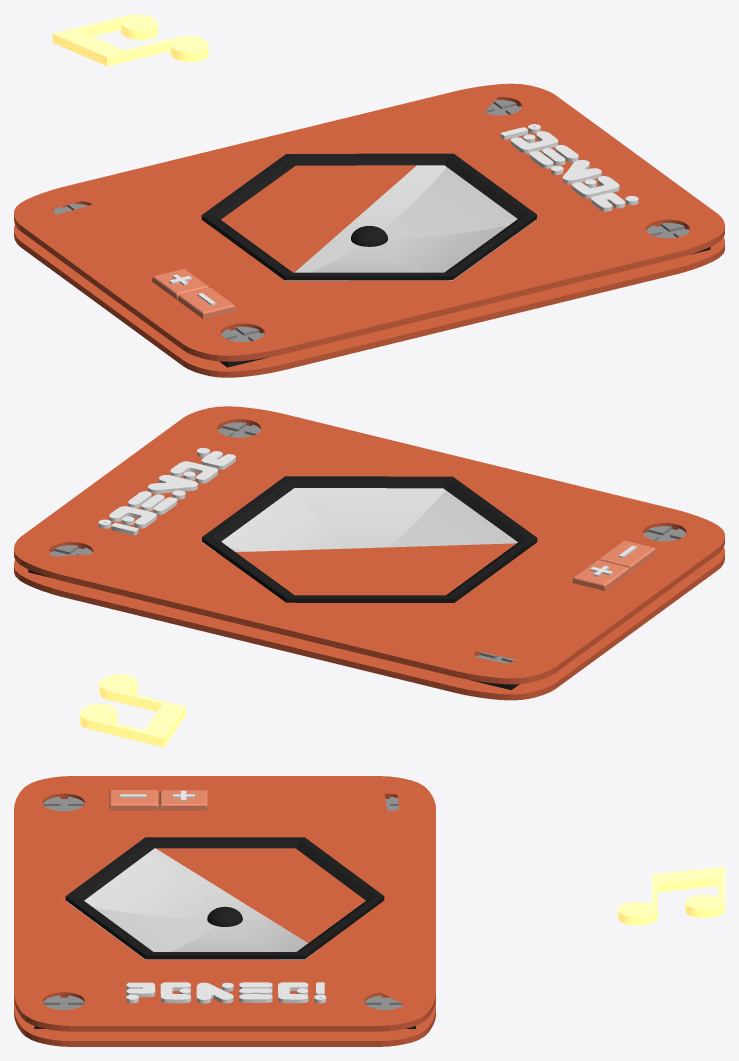
Rendered from fsthing.fbx.
3 views of the same model, one above another, from view 1: azimuth 30°, elevation 25°; view 2: azimuth 150°, elevation 25°; view 3: azimuth 270°, elevation 25° (orthographic). The views are drawn at different scales.
Visible parts, largest first — view 1: Plane, Plane.001, Cylinder, Cube.001, Sphere; view 2: Plane, Plane.001, Cylinder, Cube.001; view 3: Plane, Plane.001, Cylinder, Cube.001, Sphere.
Part boxes in pixels (x1=…): Plane: x1=14, y1=83, x2=724, y2=377; Plane.001: x1=201, y1=153, x2=536, y2=280; Cylinder: x1=52, y1=14, x2=208, y2=66; Cube.001: x1=152, y1=269, x2=235, y2=318; Sphere: x1=351, y1=226, x2=387, y2=246; Plane: x1=14, y1=406, x2=724, y2=700; Plane.001: x1=202, y1=476, x2=537, y2=602; Cylinder: x1=79, y1=674, x2=185, y2=747; Cube.001: x1=572, y1=540, x2=656, y2=590; Plane: x1=14, y1=776, x2=435, y2=1046; Plane.001: x1=65, y1=837, x2=384, y2=959; Cylinder: x1=617, y1=866, x2=724, y2=925; Cube.001: x1=109, y1=790, x2=207, y2=810; Sphere: x1=207, y1=906, x2=242, y2=926.
Bounding box in the file's own units: 280 × 15.35 × 337.
